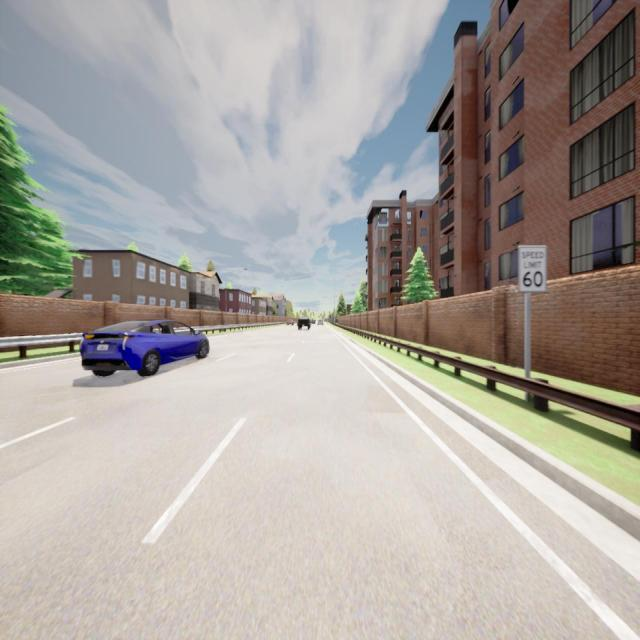Traffic_Signs: (518, 245, 547, 292)
Vehicle: (81, 320, 209, 376), (298, 317, 311, 330), (286, 318, 294, 326), (317, 319, 323, 326), (311, 319, 316, 325)
